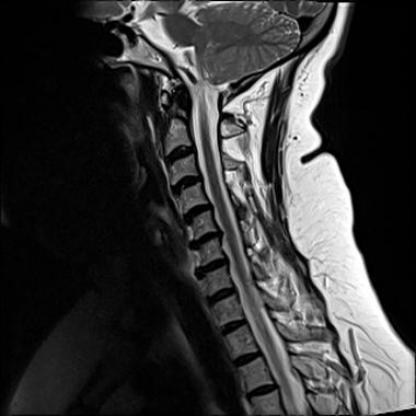Disc Bulgerotation: (188, 232, 224, 248)
